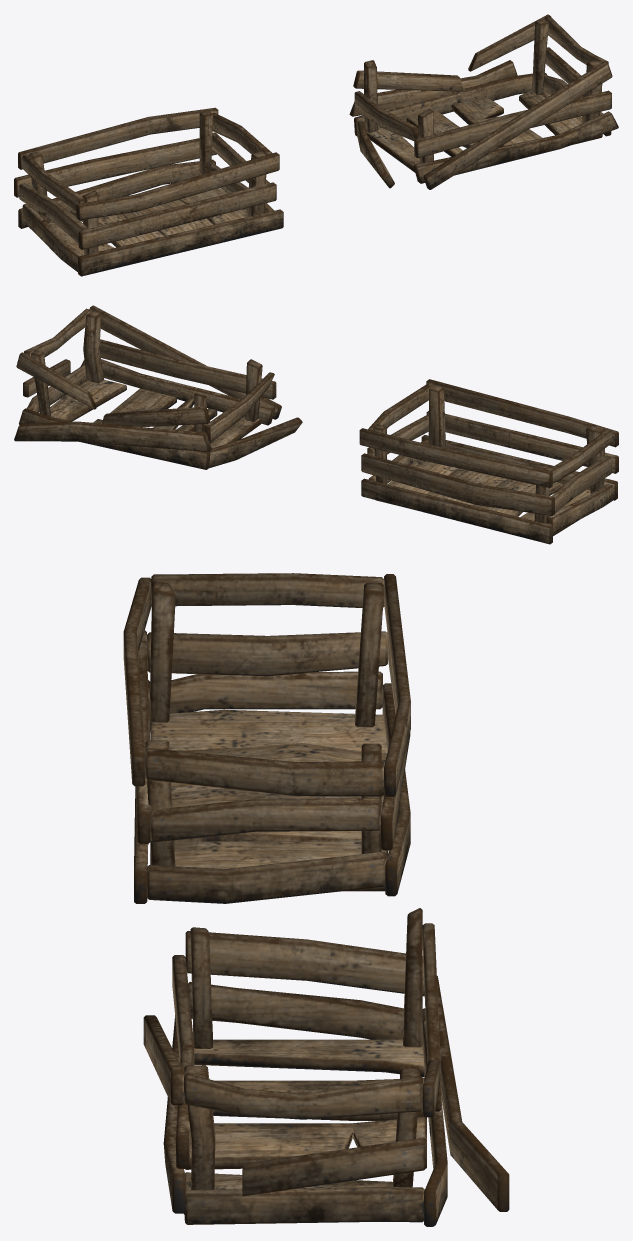
3 renders of one model, top to bottom at view 1: azimuth 30°, elevation 25°; view 2: azimuth 150°, elevation 25°; view 3: azimuth 270°, elevation 25°, orthographic. The views are drawn at different scales.
Visible parts, largest first — view 1: Crate_01_GEO, Crate_02_GEO; view 2: Crate_01_GEO, Crate_02_GEO; view 3: Crate_01_GEO, Crate_02_GEO.
Boxes of the visible parts, bbox=[...] form: Crate_01_GEO: bbox=[14, 107, 283, 276]; Crate_02_GEO: bbox=[349, 14, 618, 189]; Crate_01_GEO: bbox=[359, 379, 618, 544]; Crate_02_GEO: bbox=[14, 305, 302, 469]; Crate_01_GEO: bbox=[123, 573, 410, 903]; Crate_02_GEO: bbox=[143, 908, 509, 1226].
Size of the model in its own units: 2.62 by 0.3524 by 0.825.
1 material, 1 textured.
